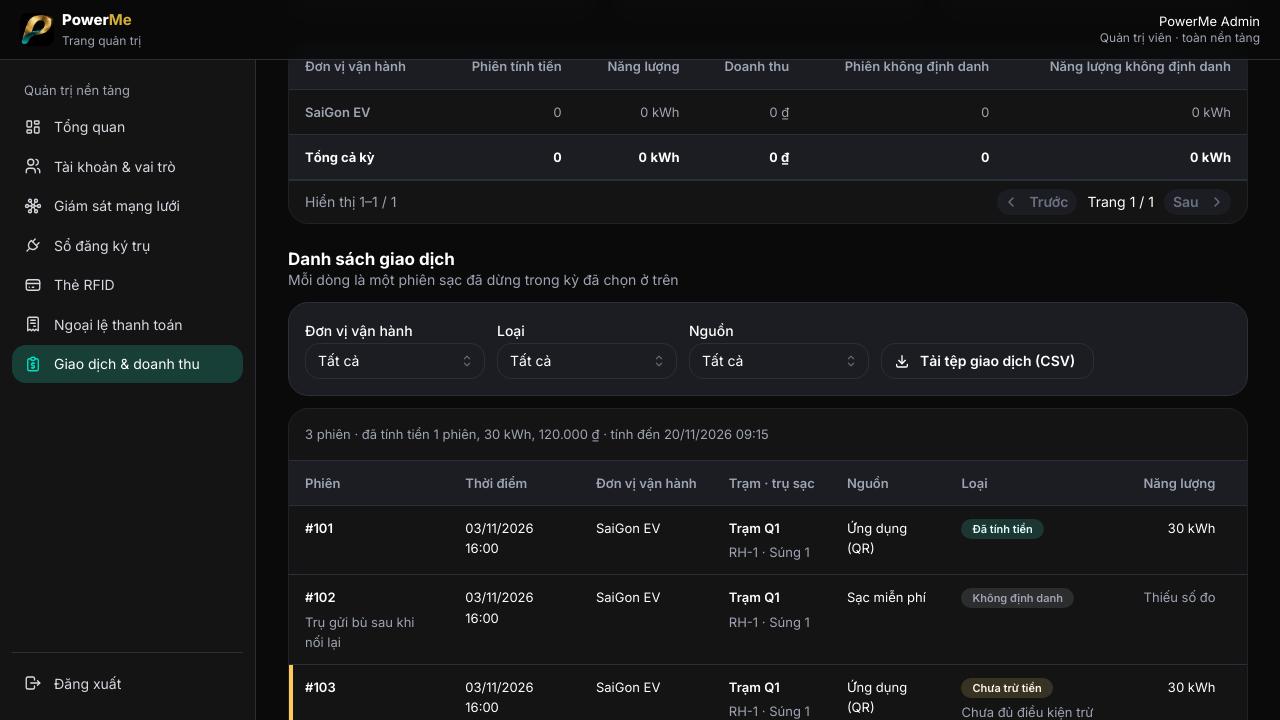
Scenario: Danh sách giao dịch (màn 35, Admin) › a CSV larger than the export limit shows a plain message
(page scrolled)
Click the button "Tải tệp giao dịch (CSV)". click: (988, 360)
box: [881,342,1094,378]
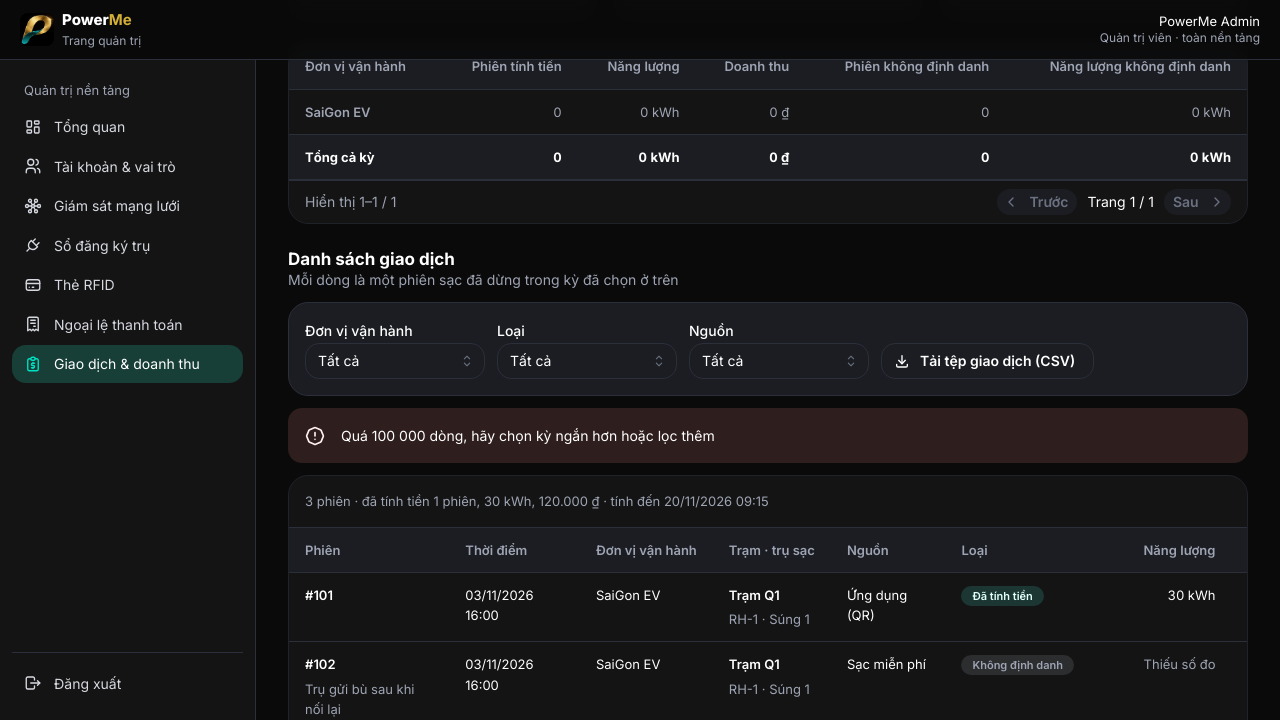
Expected: the text "Quá 100 000 dòng, hãy chọn kỳ ngắn hơn hoặc lọc thêm" is shown, [341,426,715,444]
